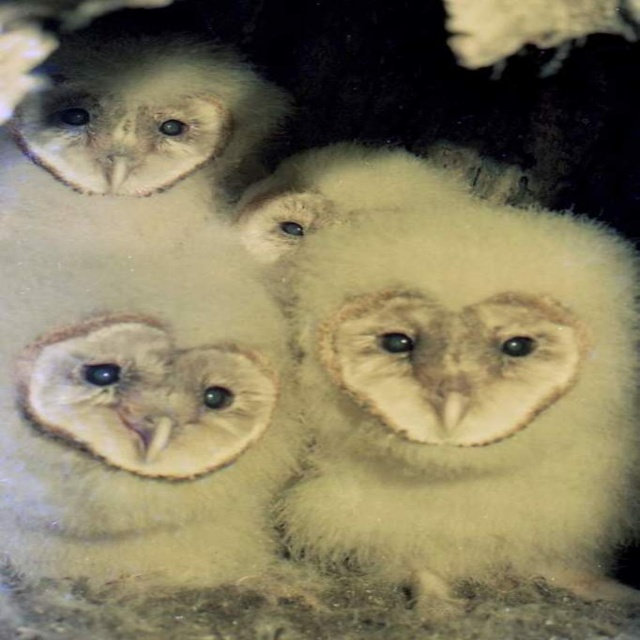Owl: (0, 42, 639, 588)
